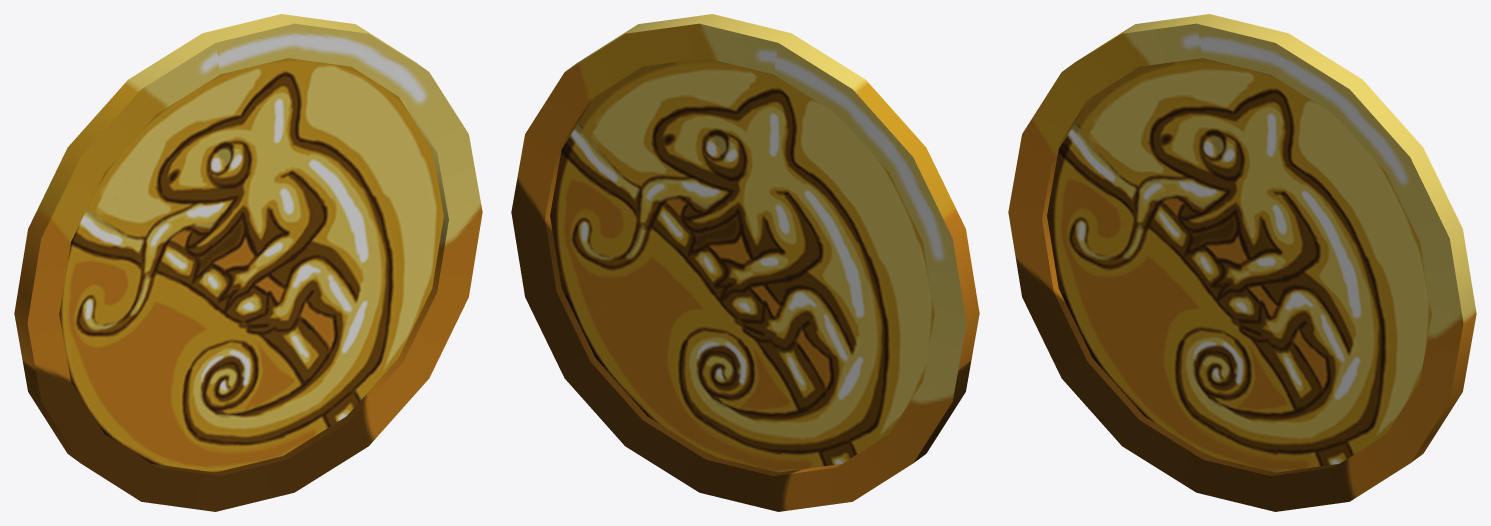
Rendered from coin.fbx.
The picture shows the model from 3 angles, left to right: view 1: azimuth 30°, elevation 25°; view 2: azimuth 150°, elevation 25°; view 3: azimuth 330°, elevation 25°; orthographic projection.
Visible parts, largest first — view 1: pCylinder11; view 2: pCylinder11; view 3: pCylinder11.
Part boxes in pixels (box(x1,y1,x2,y2)): pCylinder11: box(14, 14, 482, 511); pCylinder11: box(511, 14, 979, 511); pCylinder11: box(1008, 14, 1476, 511).
Size of the model in its own units: 9.71 by 9.57 by 0.4857.
Materials: 1 (1 with a texture image).
